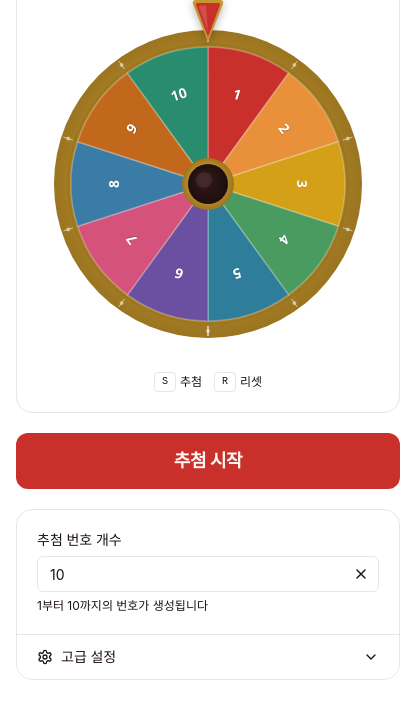
Test: draw state boundaries › keeps invalid number draft visible and blocks draw: 1.5
(page scrolled)
Replace the text in the field labelled "추첨 번호 개수" with "1.5": (208, 574) [37,556,379,592]
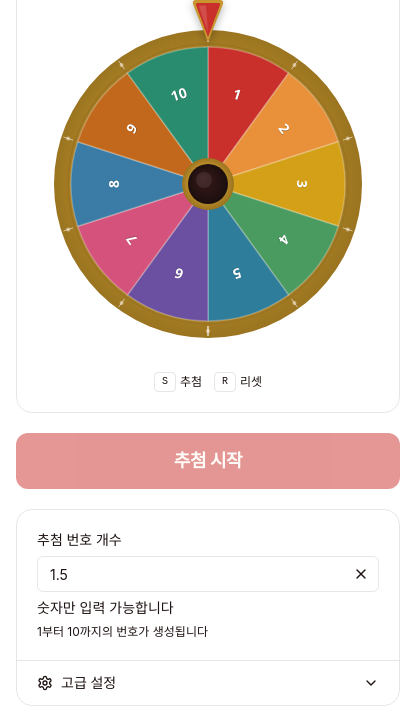
Now the message "숫자만 입력 가능합니다" is shown, box [37,599,174,616]
Now the button "추첨 시작" is disabled, box [16,433,400,489]
